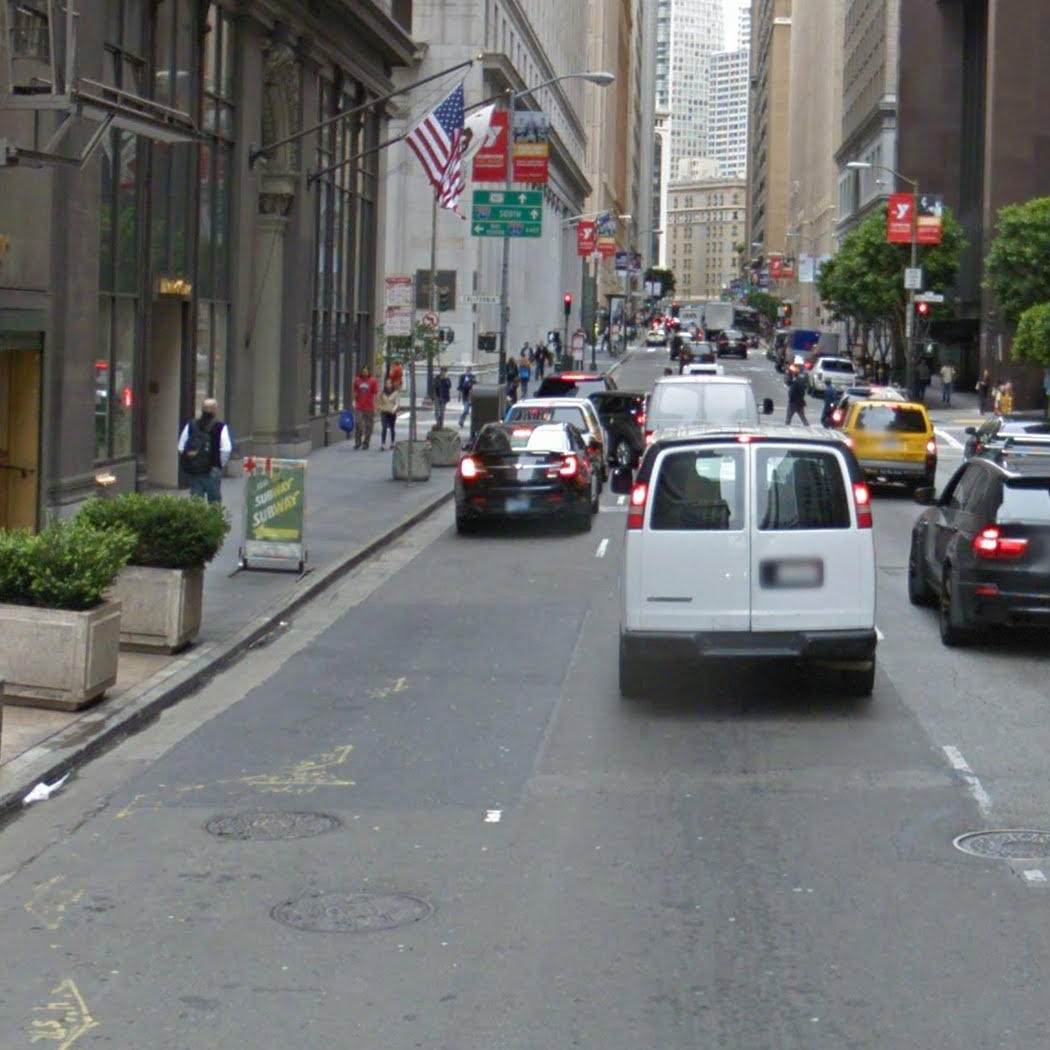No Parking: (383, 306, 414, 337), (384, 274, 413, 307)
